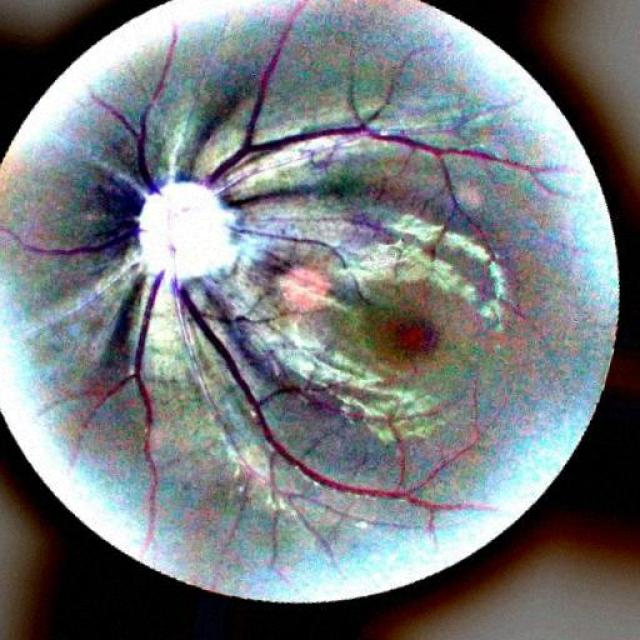Macula: (381, 318, 436, 356)
Nerves: (96, 269, 490, 546), (190, 0, 555, 269), (0, 25, 179, 255), (230, 216, 338, 249)
Optic Disk: (139, 182, 236, 279)
